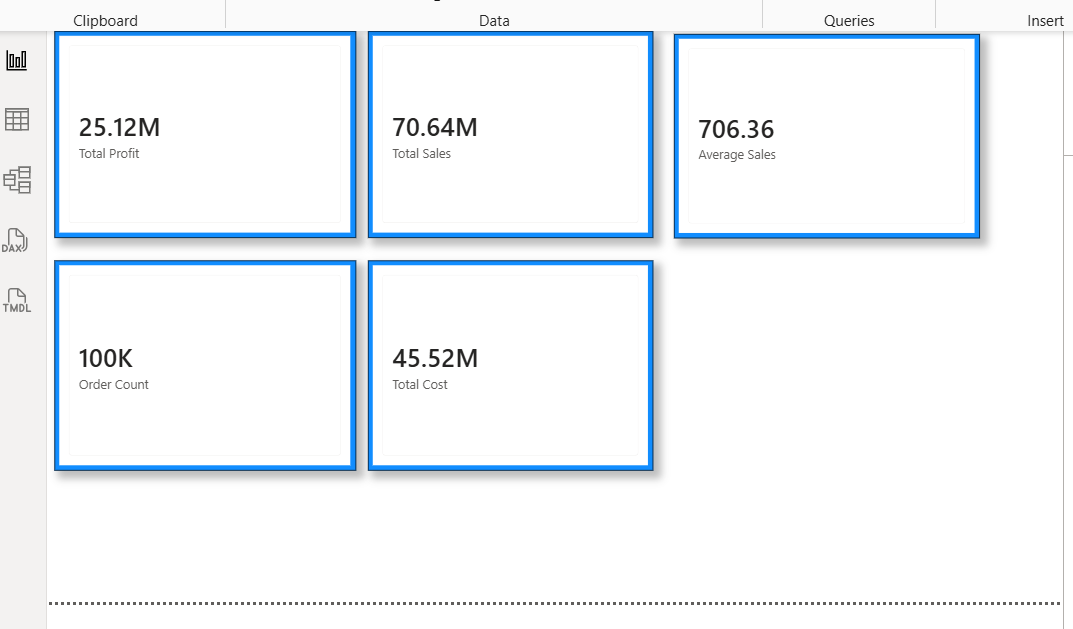

The page's visual inventory and layout, read from the dashboard file:
{"tool":"powerbi","page":{"name":"KPI CARDS","canvas":[1280,720],"ordinal":1},"visuals":[{"type":"cardVisual","fields":{"Data":["DimCustomer.Total Profit"]},"box":[9.4,0,379.8,260.8],"z":0},{"type":"cardVisual","fields":{"Data":["DimCustomer.Order Count"]},"box":[9.4,289.1,379.8,264.6],"z":1000},{"type":"cardVisual","fields":{"Data":["DimCustomer.Average Sales"]},"box":[789.9,3.8,385.5,257],"z":2000},{"type":"cardVisual","fields":{"Data":["DimCustomer.Total Sales"]},"box":[404.4,0,359.1,260.8],"z":3000},{"type":"cardVisual","fields":{"Data":["DimCustomer.Total Cost"]},"box":[404.4,289.1,359.1,264.6],"z":4000}]}

Visuals, with their boxes in screenshot pixels (x1, y1, x2, y2):
cardVisual - DimCustomer.Total Profit: (left=49, top=28, right=352, bottom=236)
cardVisual - DimCustomer.Order Count: (left=49, top=258, right=352, bottom=469)
cardVisual - DimCustomer.Average Sales: (left=672, top=31, right=979, bottom=236)
cardVisual - DimCustomer.Total Sales: (left=364, top=28, right=651, bottom=236)
cardVisual - DimCustomer.Total Cost: (left=364, top=258, right=651, bottom=469)
